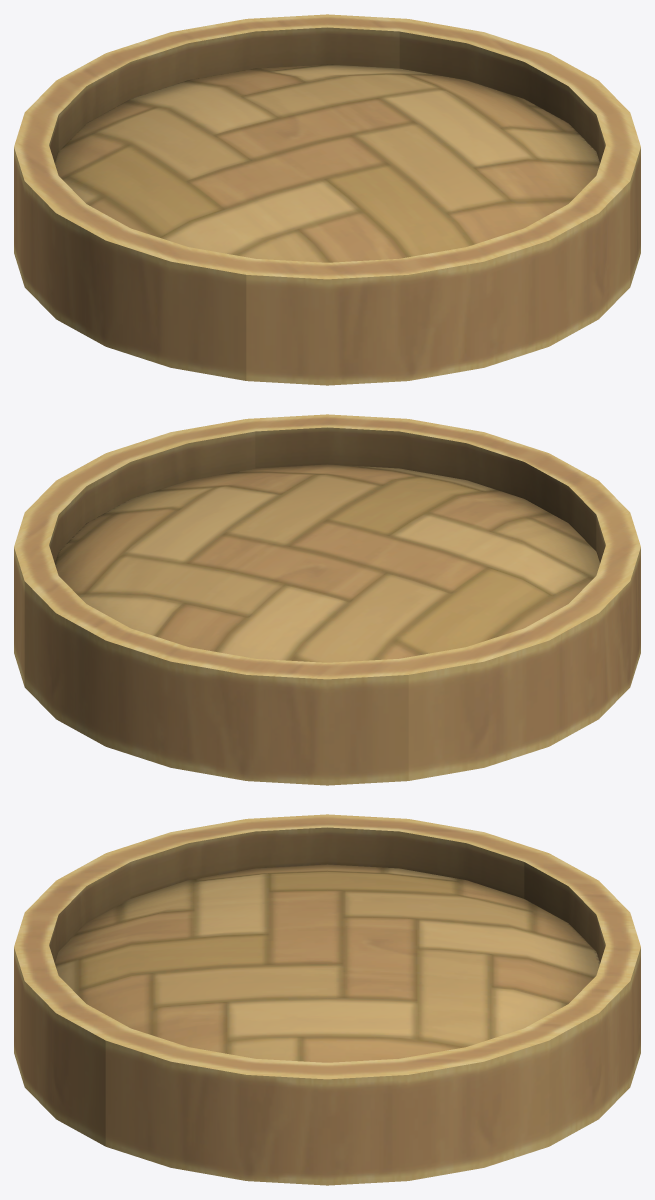
The model's file is m_steamer_Lid.fbx.
3 views of the same model, one above another, from view 1: azimuth 30°, elevation 25°; view 2: azimuth 150°, elevation 25°; view 3: azimuth 270°, elevation 25° (orthographic).
Visible parts, largest first — view 1: m_steamer_Lid; view 2: m_steamer_Lid; view 3: m_steamer_Lid.
Boxes of the visible parts, box(x1,y1,x2,y2) form: m_steamer_Lid: box(14, 14, 640, 385); m_steamer_Lid: box(14, 414, 640, 785); m_steamer_Lid: box(14, 814, 640, 1185).
Size of the model in its own units: 71.12 by 71.12 by 13.51.
1 material, 1 textured.
